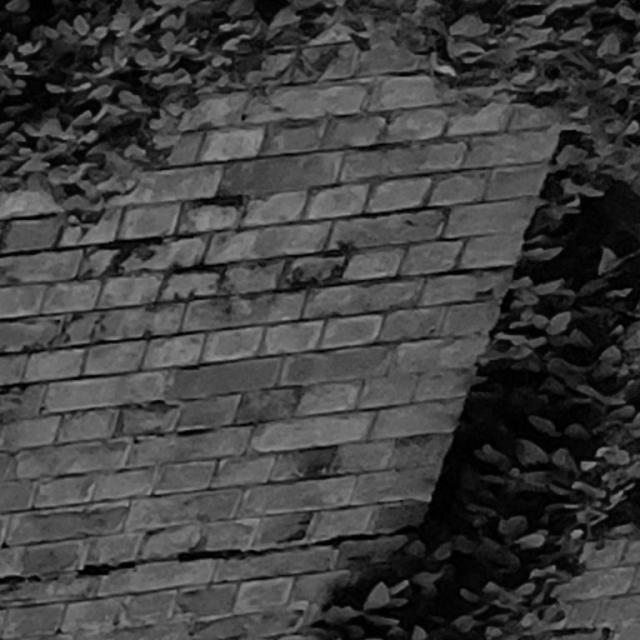crack: (1, 525, 422, 587)
